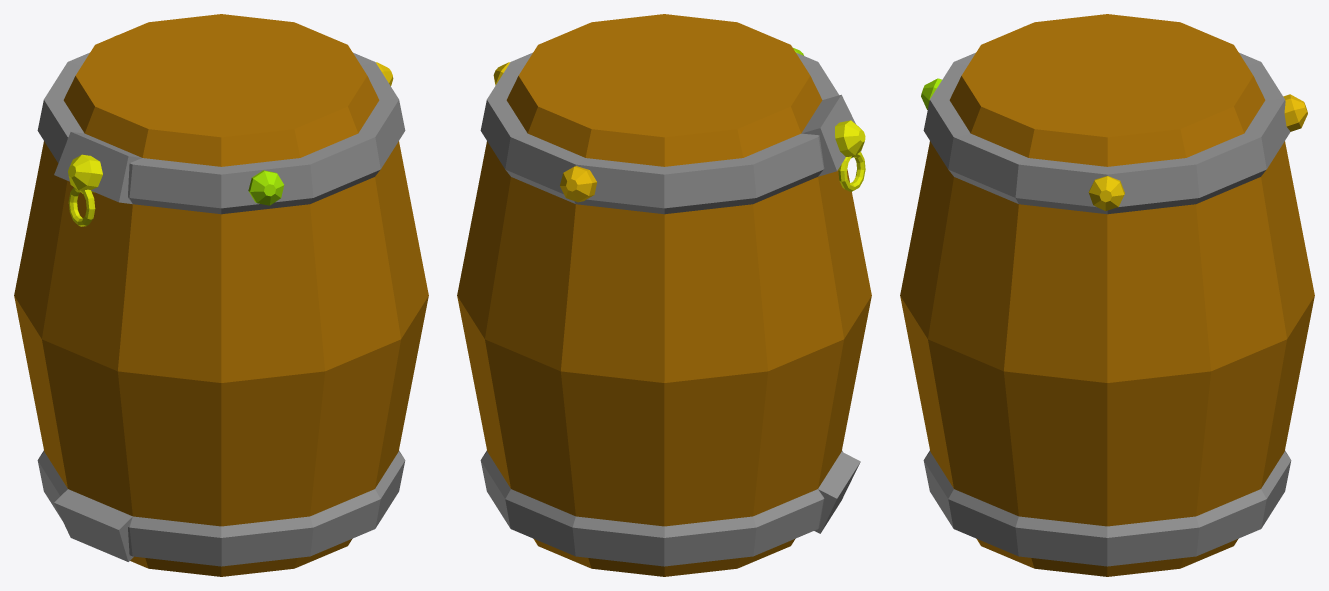
3 views of the same model, side by side, from view 1: azimuth 30°, elevation 25°; view 2: azimuth 150°, elevation 25°; view 3: azimuth 270°, elevation 25° (orthographic).
Visible parts, largest first — view 1: Cylinder; view 2: Cylinder; view 3: Cylinder.
Part boxes in pixels (bbox=[...]): Cylinder: bbox=[14, 14, 428, 576]; Cylinder: bbox=[457, 14, 871, 576]; Cylinder: bbox=[900, 14, 1314, 576].
Bounding box in the file's own units: 6.48 × 7.58 × 6.48.
